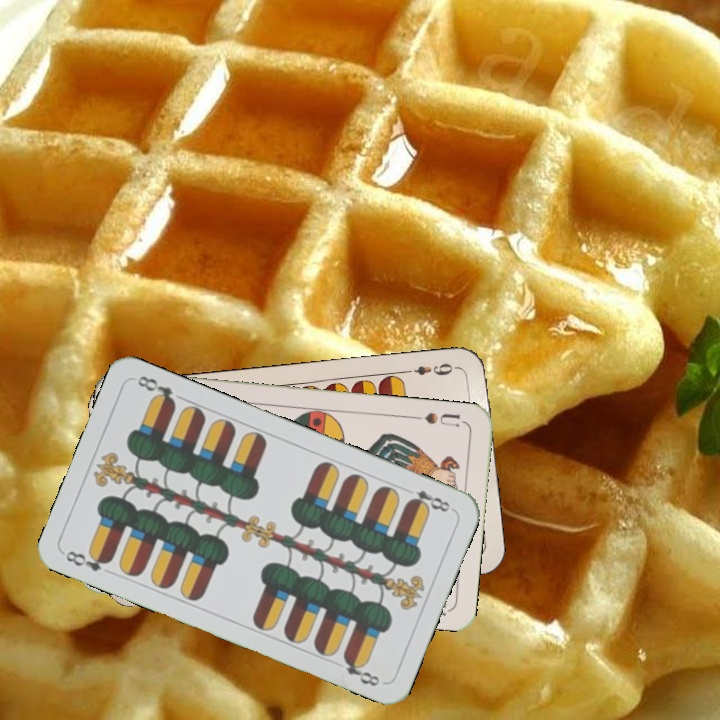E8: (403, 485, 456, 515), (61, 546, 115, 575)
E9: (401, 359, 460, 378)
SU: (408, 408, 463, 430)
